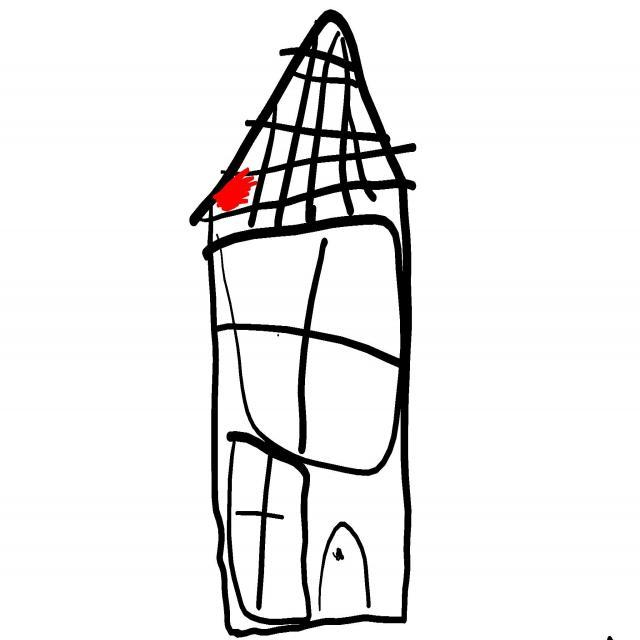door: (322, 519, 369, 620)
house: (191, 11, 416, 639)
roof: (186, 8, 417, 224)
wall: (203, 218, 410, 625)
window: (225, 218, 404, 473), (228, 434, 310, 624)
